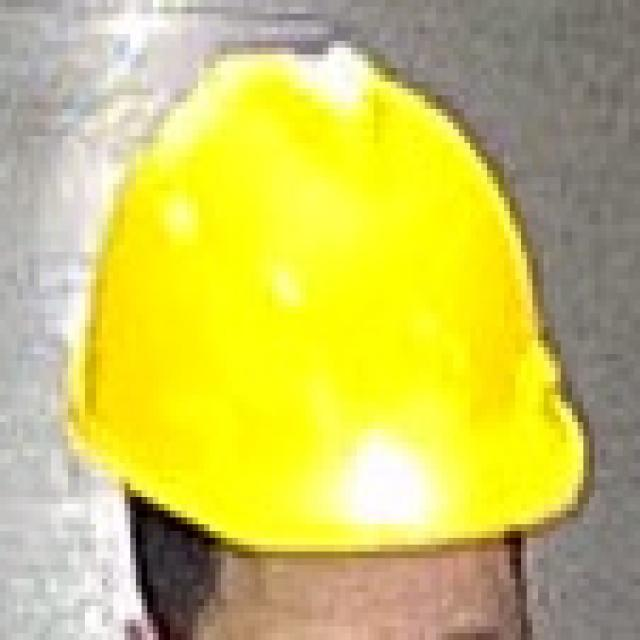yellow helmet: (70, 40, 599, 549)
